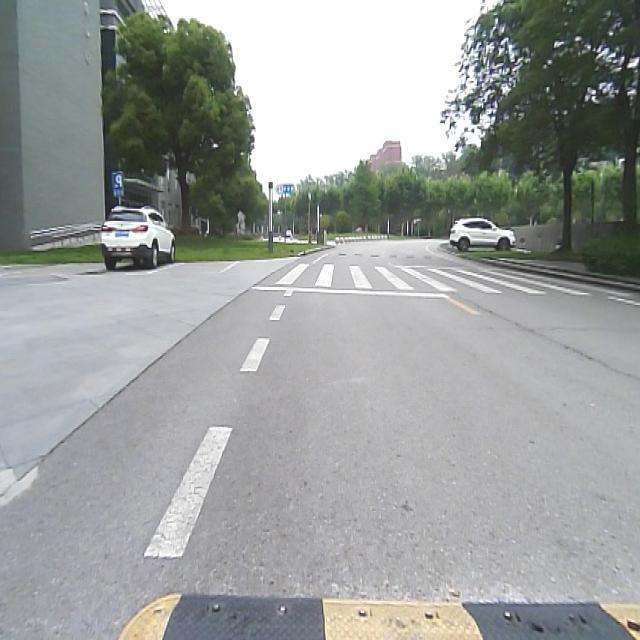Speed Bump: (118, 590, 640, 636)
